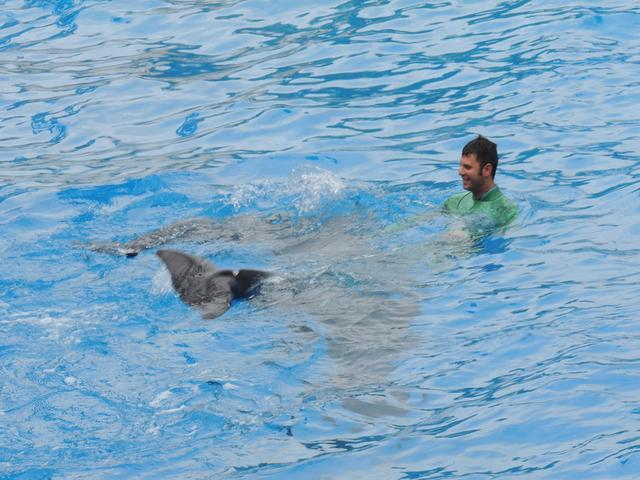dolphin: (127, 250, 476, 456)
